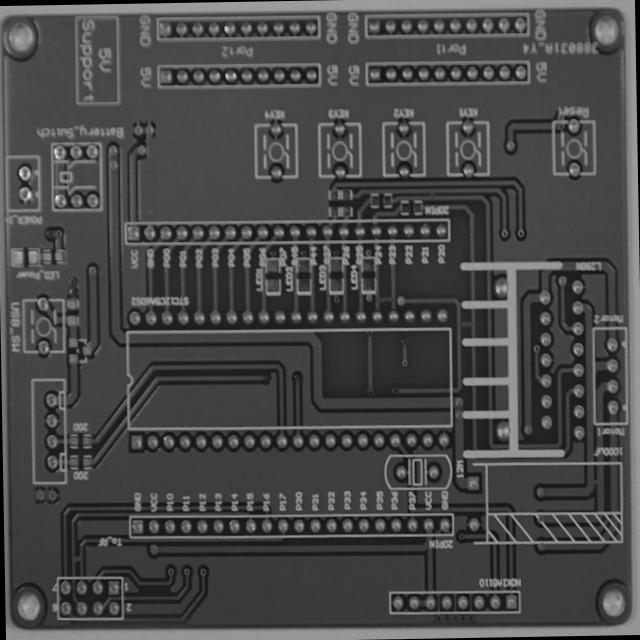short: (372, 286, 399, 312), (452, 314, 477, 336), (66, 548, 86, 570), (587, 472, 603, 491), (424, 185, 440, 202)
